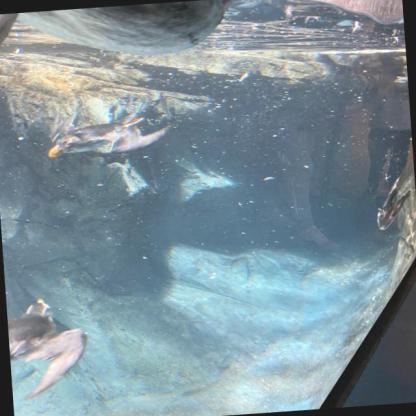puffin: (0, 0, 237, 76), (6, 294, 92, 402), (44, 104, 176, 160)
